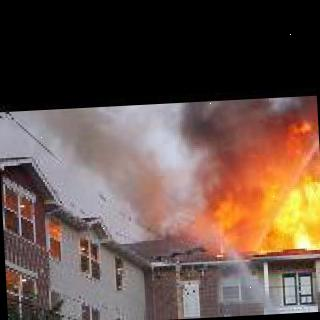fire: (190, 109, 320, 260), (57, 107, 186, 241)
